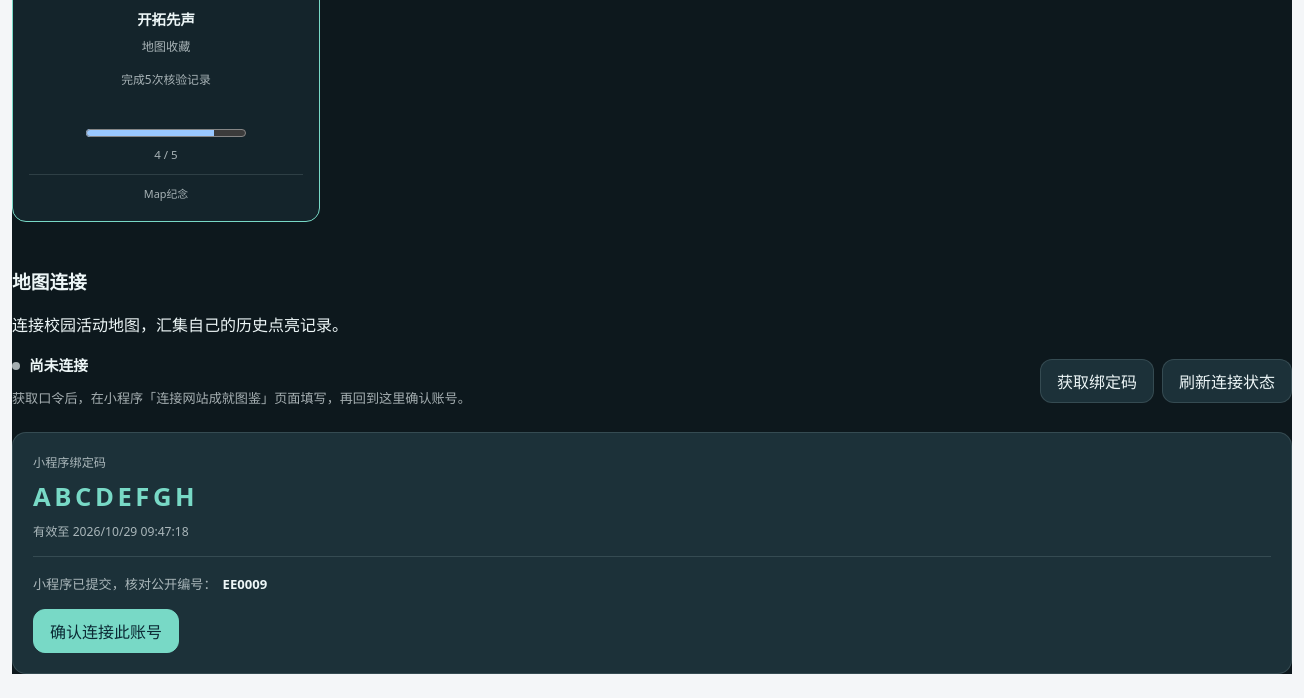
Test case: AchievementAtlasPanel › suspends automatic connection reads while explicit confirmation is in flight
(page scrolled)
Click the button "确认连接此账号".
click(106, 631)  # box [33, 609, 179, 653]
Wait 6000 ms
(page scrolled)
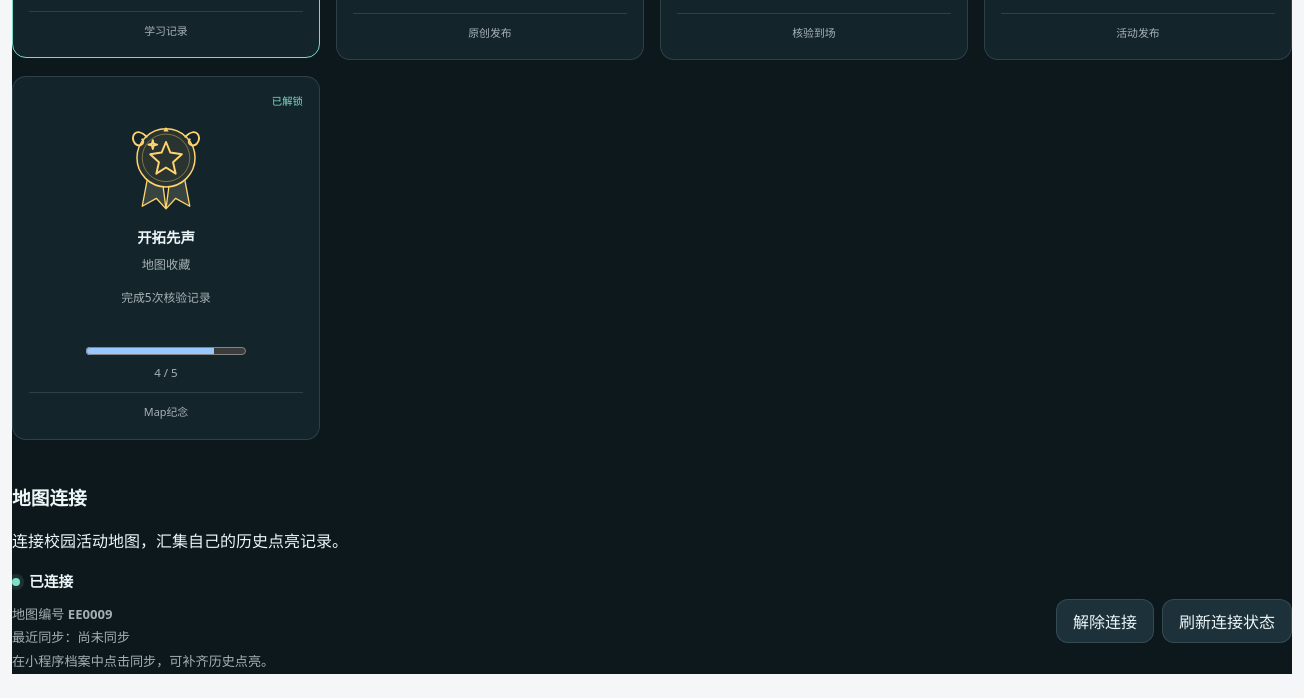
Result: the text "已连接" is shown at [12, 571, 73, 591]
